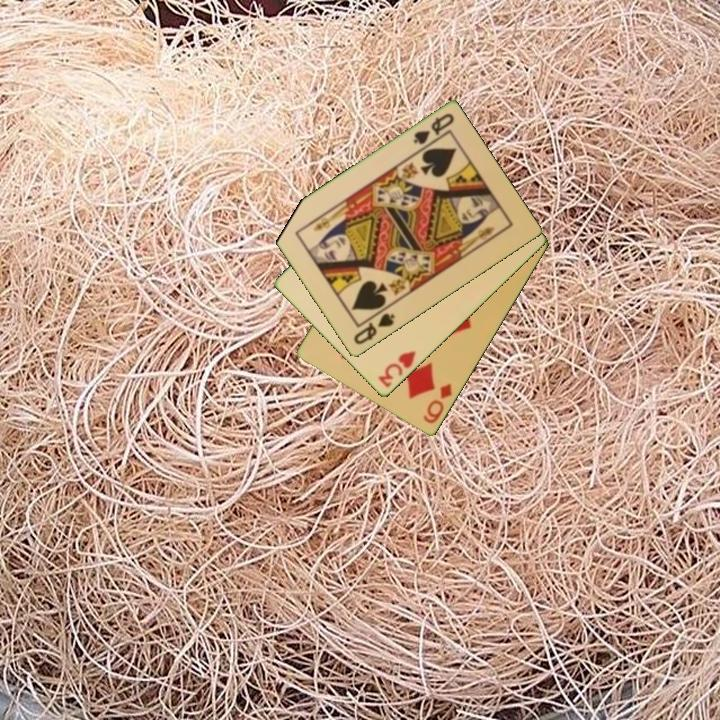3h: (375, 347, 419, 391)
6d: (420, 380, 455, 427)
Qs: (350, 310, 398, 348), (410, 110, 457, 148)
